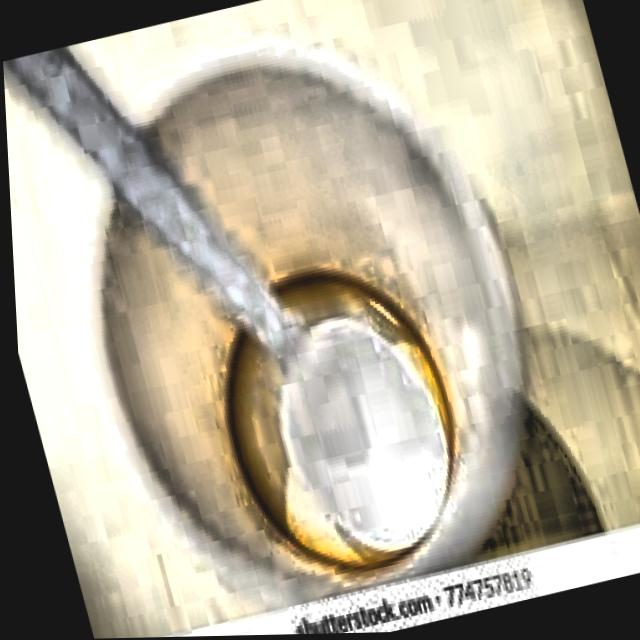Cup: (0, 0, 586, 640)
